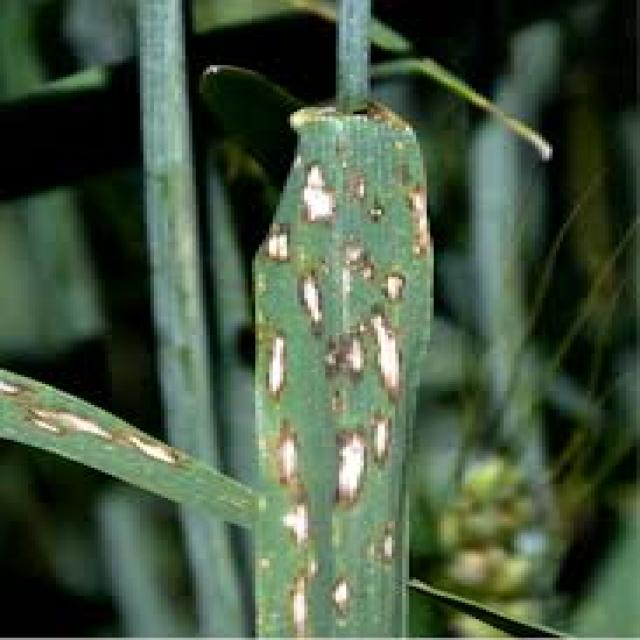leaf_blight: (255, 107, 430, 635)
